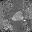people: (11, 11, 23, 22)
